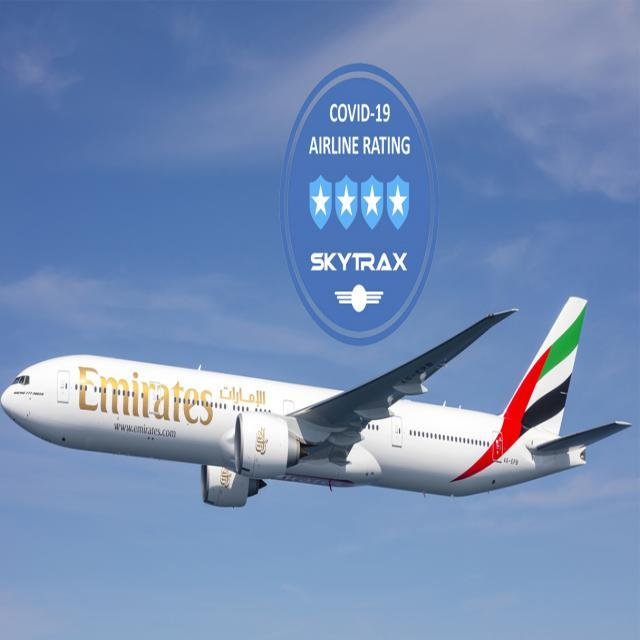Emirates: (78, 362, 213, 426)
